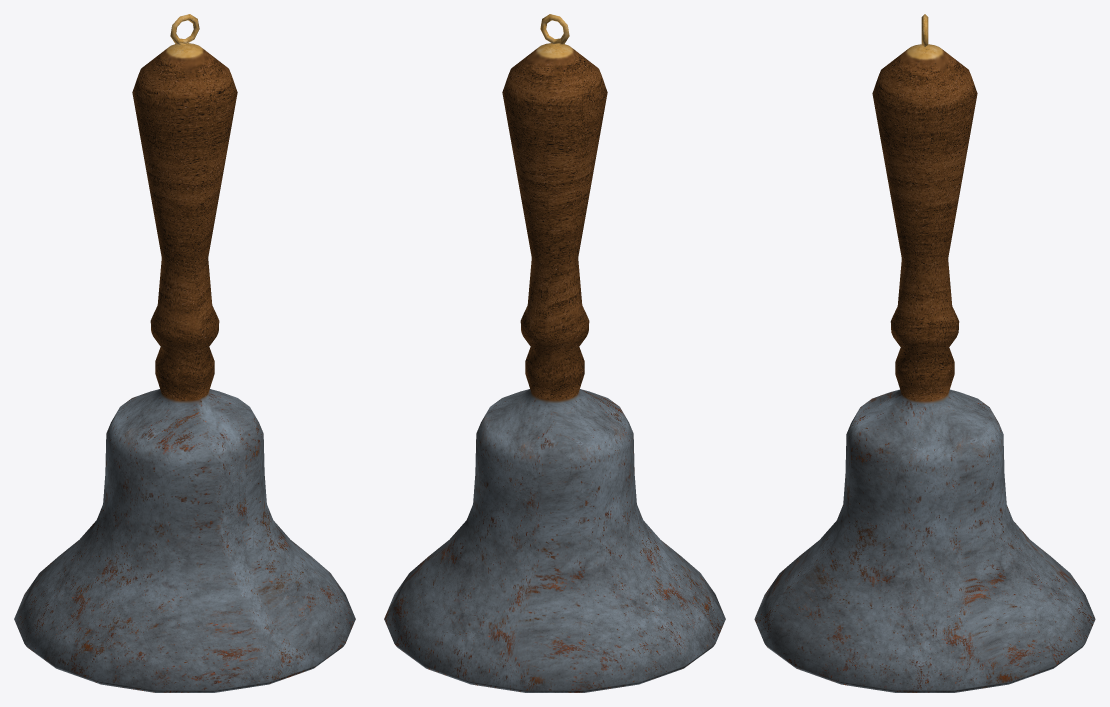
The model's file is bell.fbx.
The picture shows the model from 3 angles, left to right: view 1: azimuth 30°, elevation 25°; view 2: azimuth 150°, elevation 25°; view 3: azimuth 270°, elevation 25°; orthographic projection.
Parts seen in each view (by area): view 1: Bell; view 2: Bell; view 3: Bell.
Part boxes in pixels (x1=…): Bell: x1=14, y1=14, x2=355, y2=692; Bell: x1=384, y1=14, x2=725, y2=692; Bell: x1=754, y1=14, x2=1095, y2=692.
Size of the model in its own units: 153 by 314 by 156.
